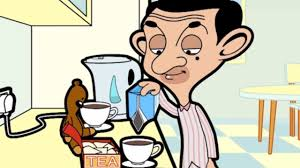mrbean: (128, 1, 254, 168)
